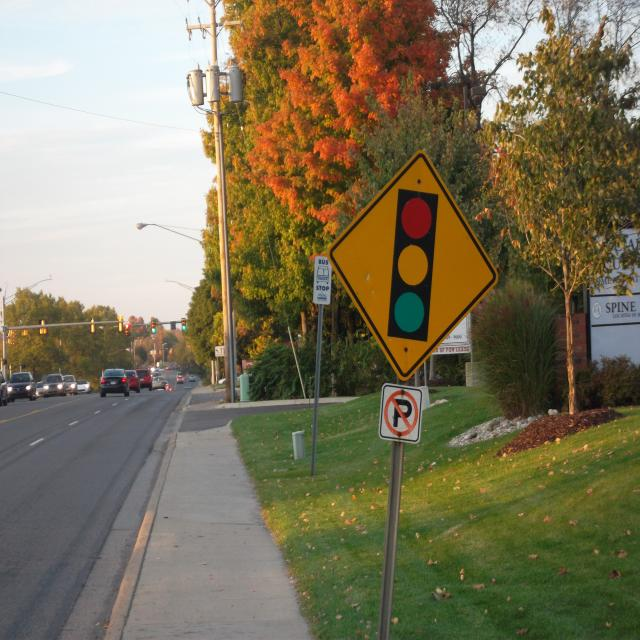warning: (325, 152, 498, 382)
